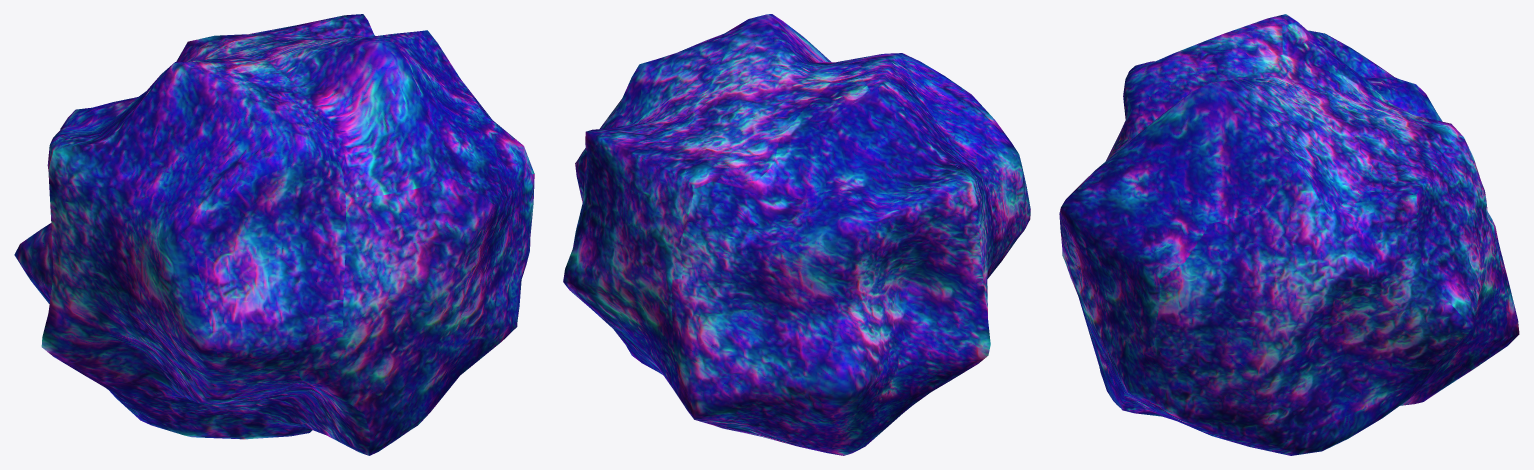
File: asteroid_01.fbx
The picture shows the model from 3 angles, left to right: view 1: azimuth 30°, elevation 25°; view 2: azimuth 150°, elevation 25°; view 3: azimuth 270°, elevation 25°; orthographic projection. The views are drawn at different scales.
Parts seen in each view (by area): view 1: Aster_Small_6_; view 2: Aster_Small_6_; view 3: Aster_Small_6_.
Part boxes in pixels (left/top/right/bottom): Aster_Small_6_: left=14, top=14, right=534, bottom=455; Aster_Small_6_: left=563, top=14, right=1030, bottom=455; Aster_Small_6_: left=1059, top=14, right=1519, bottom=455.
Bounding box in the file's own units: 1592 × 1526 × 1396.
1 material, 1 textured.
